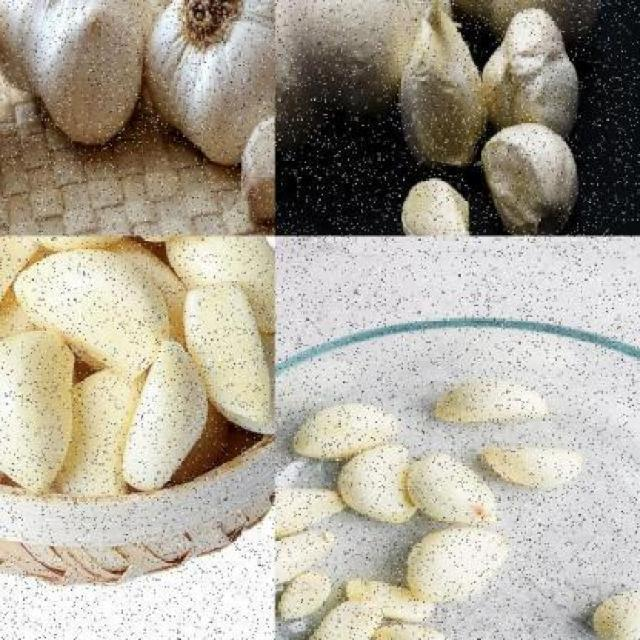garlic: (275, 383, 583, 639), (0, 236, 274, 493), (276, 0, 447, 157), (0, 0, 162, 162), (144, 0, 274, 168), (402, 2, 490, 166), (124, 340, 214, 500), (482, 13, 587, 133), (475, 119, 580, 235), (408, 452, 508, 532), (290, 402, 403, 462), (424, 380, 552, 422), (483, 443, 584, 490), (400, 173, 474, 236), (240, 103, 274, 226), (588, 586, 640, 640)
